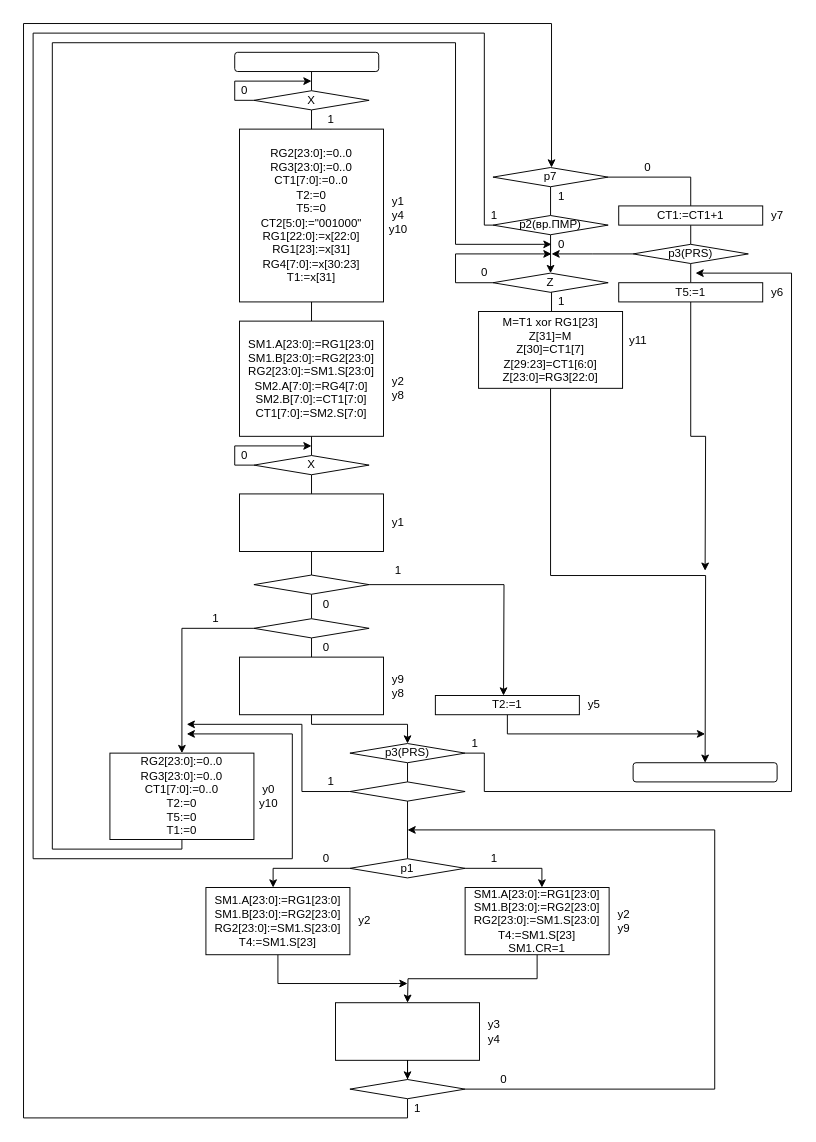
Some shapes in this 816 by 1142 pixel diagram are drawn without their labels. The centre of each missing label's shape, as x and y in pixels:
"p0" goes at [407,1089].
"p4(DNN)" goes at [311,584].
"p5" goes at [311,628].
"p6(ист.ПМР)" goes at [407,791].
"RG1[22:0]:=x[22:0] RG1[23]:=x[31] RG4[7:0]:=x[30:23] T1:=x[31]" goes at [311,522].
"RG2[23:0]:=L1(RG2).0 RG3[23:0]:=L1(RG3).T4 CT2:=CT2+1" goes at [407,1031].
"SM2.A[7:0]:=RG4[7:0] SM2.B[7:0]:=CT1[7:0] CT1[7:0]:=SM2.S[7:0]" goes at [311,685].
"Конец" goes at [704,772].
"Начало" goes at [306,61].
